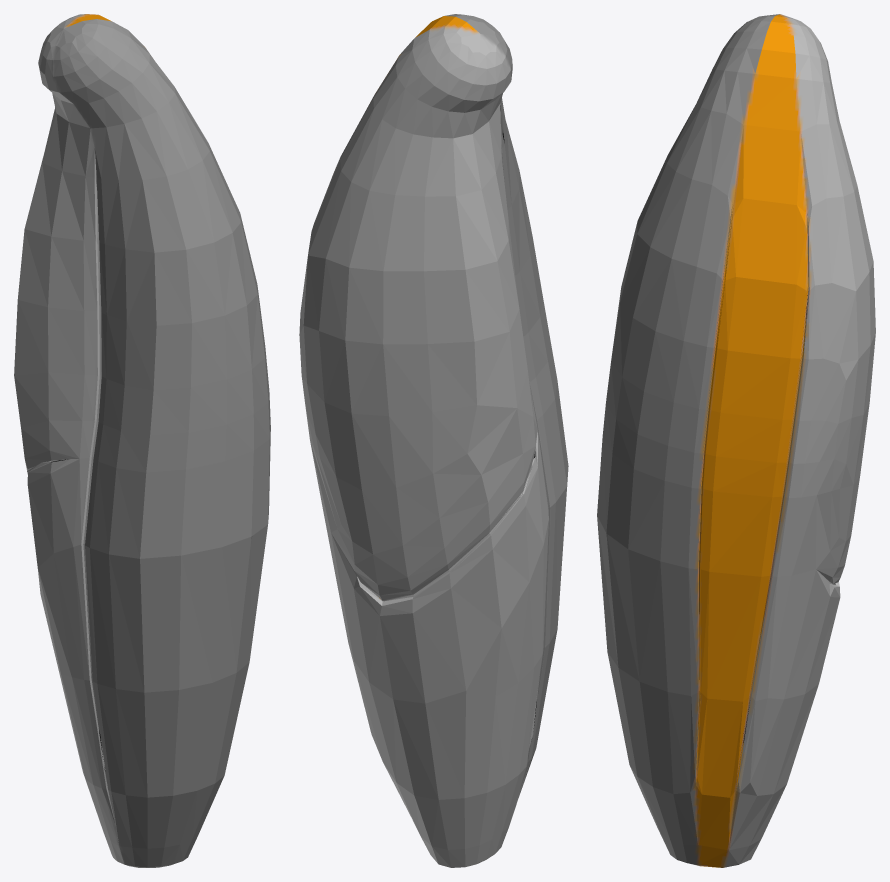
File: LeftUpperLeg.obj
The picture shows the model from 3 angles, left to right: view 1: azimuth 30°, elevation 25°; view 2: azimuth 150°, elevation 25°; view 3: azimuth 270°, elevation 25°; orthographic projection. The views are drawn at different scales.
Visible parts, largest first — view 1: LeftUpperLeg_Mesh.013; view 2: LeftUpperLeg_Mesh.013; view 3: LeftUpperLeg_Mesh.013.
Boxes of the visible parts, x1,y1,x2,y2 form: LeftUpperLeg_Mesh.013: (14, 14, 270, 867); LeftUpperLeg_Mesh.013: (299, 14, 568, 867); LeftUpperLeg_Mesh.013: (597, 14, 875, 867).
Size of the model in its own units: 0.1181 by 0.4598 by 0.1406.
Materials: 1 (1 with a texture image).
